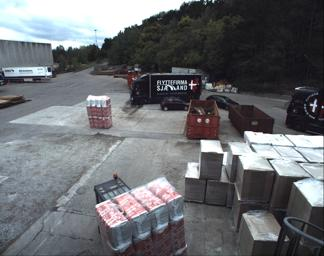rockwool_batts: (98, 172, 188, 255), (87, 91, 112, 127)
